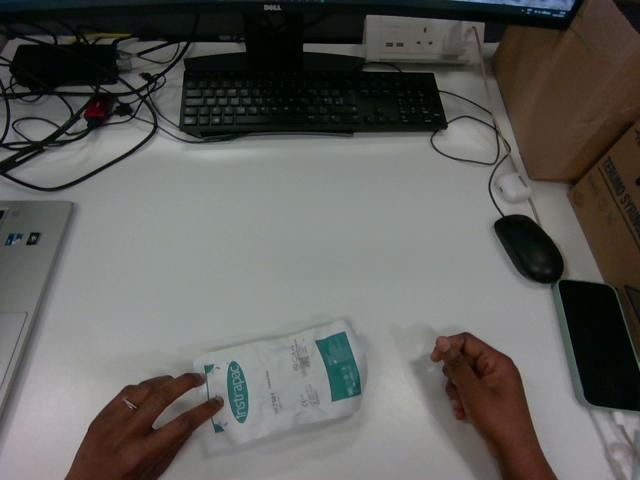gallipot: (194, 319, 365, 443)
